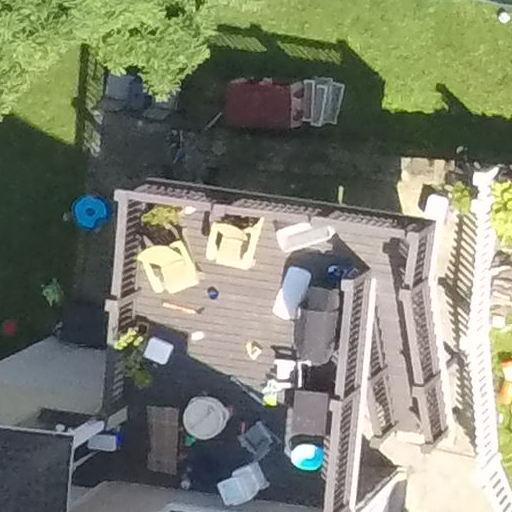clutter: (128, 205, 347, 510)
porch: (79, 163, 458, 512)
